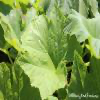Squash Powdery mildew leaf: (16, 5, 83, 97)
